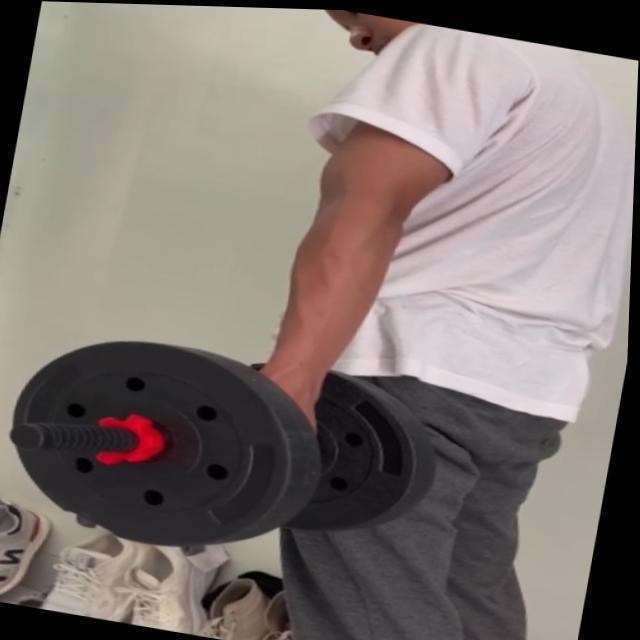dumbbell: (0, 314, 453, 590)
